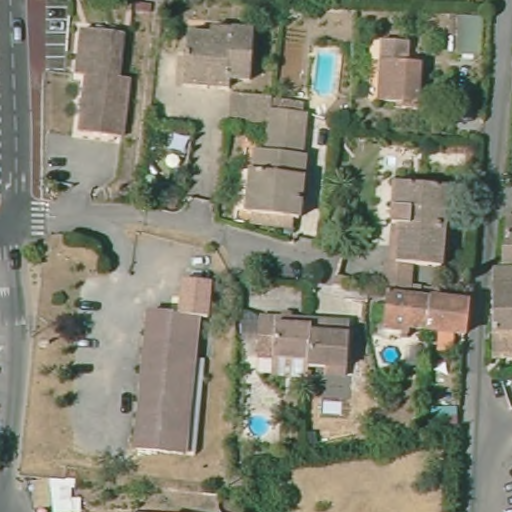pool: (309, 41, 341, 102), (241, 411, 277, 444), (376, 343, 404, 369)
